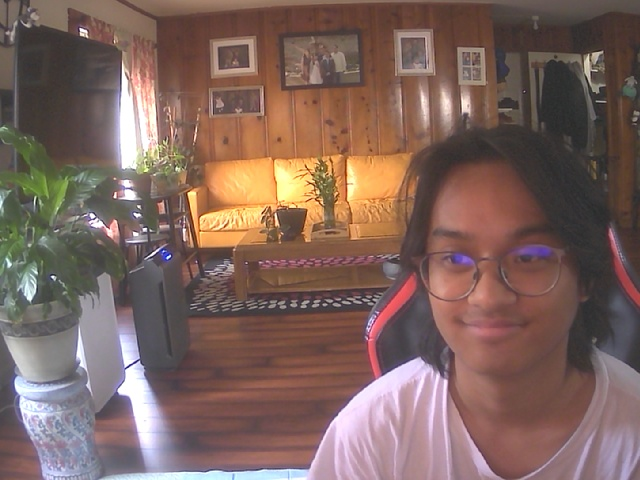happy: (408, 134, 598, 381)
